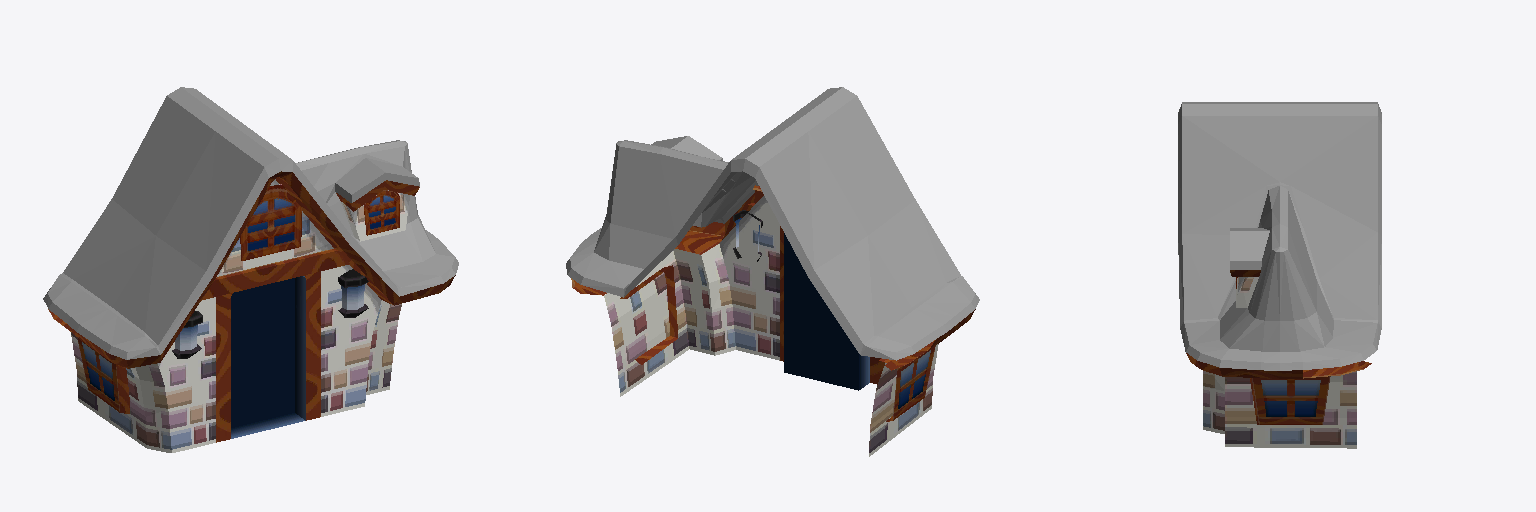
3 renders of one model, left to right at view 1: azimuth 30°, elevation 25°; view 2: azimuth 150°, elevation 25°; view 3: azimuth 270°, elevation 25°, orthographic.
Parts seen in each view (by area): view 1: vsn_mesh_0__mesh_0_.009, vsn_mesh_2__mesh_2_.001, vsn_mesh_1__mesh_1_.009; view 2: vsn_mesh_2__mesh_2_.001, vsn_mesh_0__mesh_0_.009; view 3: vsn_mesh_2__mesh_2_.001, vsn_mesh_0__mesh_0_.009.
Boxes of the visible parts, <box> form: vsn_mesh_0__mesh_0_.009: <box>48,171,455,452</box>; vsn_mesh_2__mesh_2_.001: <box>43,87,458,359</box>; vsn_mesh_1__mesh_1_.009: <box>172,269,368,358</box>; vsn_mesh_2__mesh_2_.001: <box>566,87,979,360</box>; vsn_mesh_0__mesh_0_.009: <box>571,185,975,456</box>; vsn_mesh_2__mesh_2_.001: <box>1178,102,1381,370</box>; vsn_mesh_0__mesh_0_.009: <box>1186,270,1371,448</box>.
Bounding box in the file's own units: 1.51 × 1.12 × 0.74.
Materials: 3 (1 with a texture image).